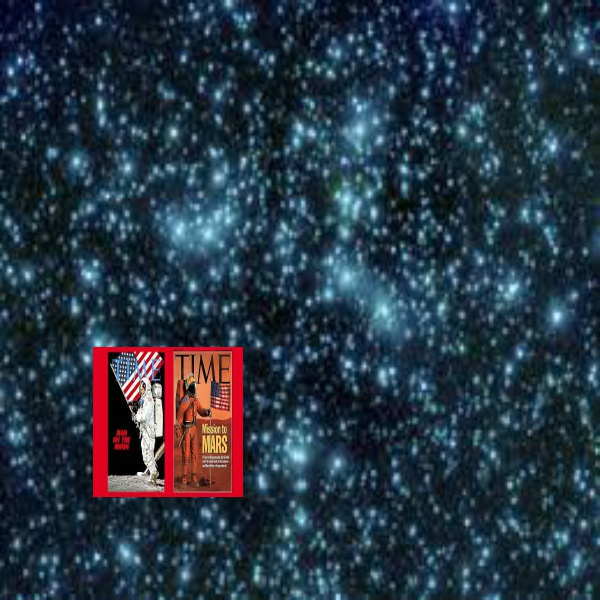time_cover: (88, 342, 168, 500), (179, 340, 242, 498)
